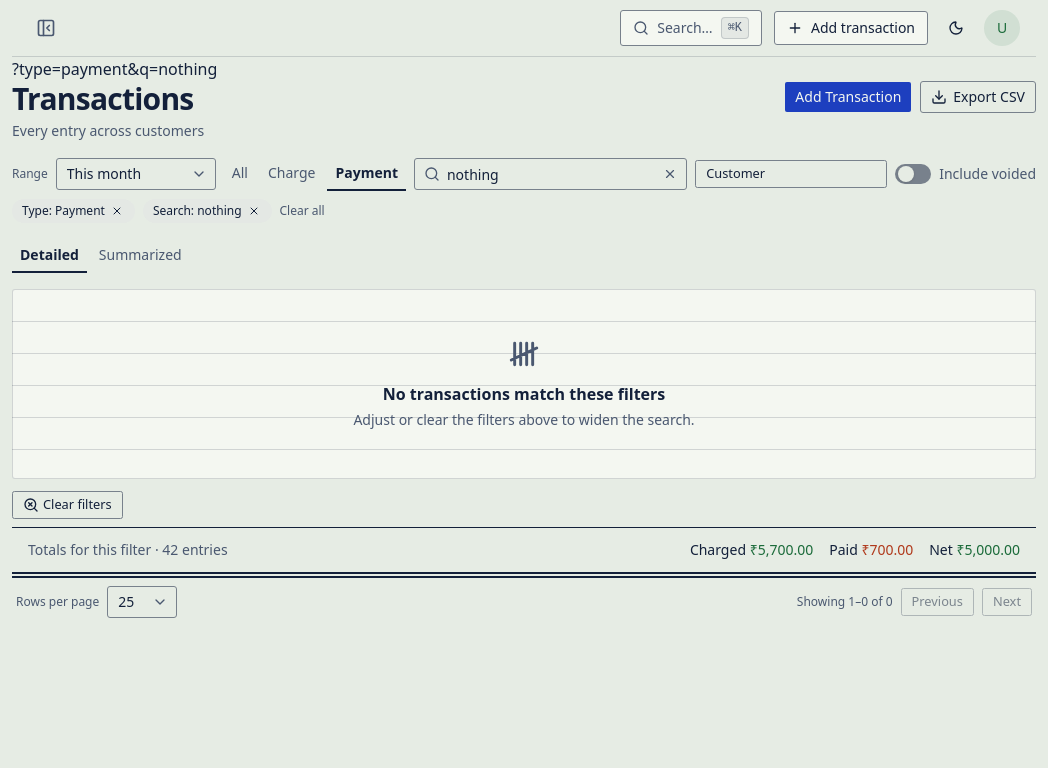
Test: S-35 transactions page v2 › filters that match nothing keep the active filters visible and Clear filters resets the URL
Check: the text "No transactions match these filters" is shown, box [383,383,665,405]
Check: the text "Type: Payment" is shown, box [12,199,135,223]
Click the button "Clear filters": (67, 505) [12,491,123,519]
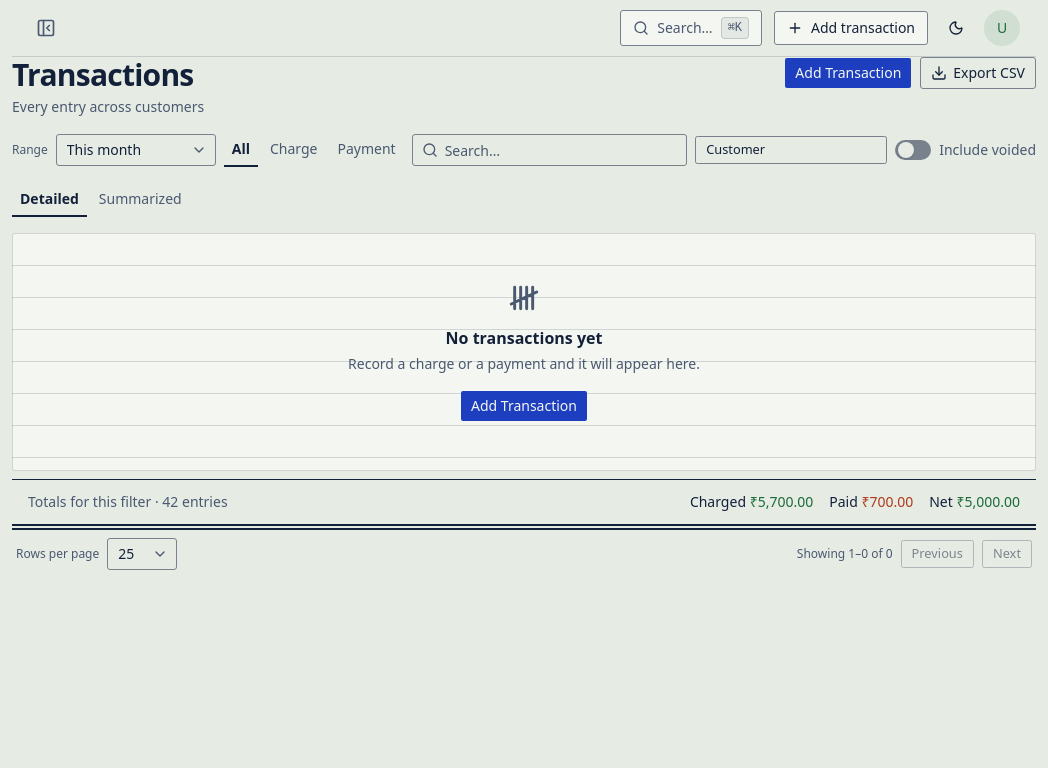
Check: the text "No transactions match these filters" is gone
Check: the text "No transactions yet" is shown, box [446,327,602,349]
